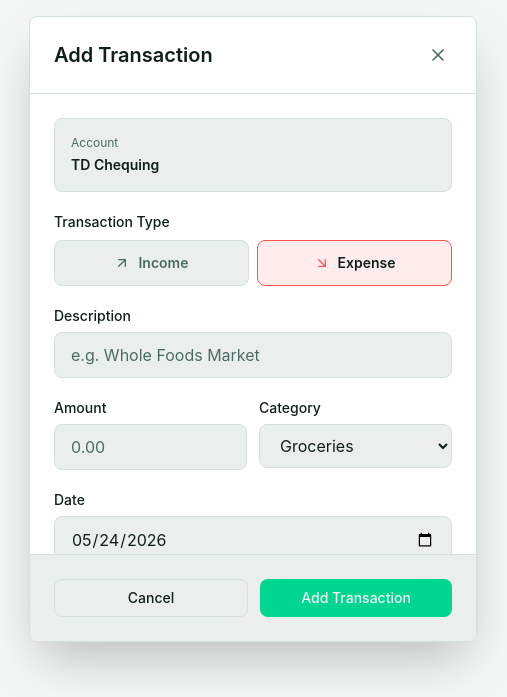
Test: AddTransactionModal — validation › shows error when description is empty
This screenshot has width=507, height=697.
# Fill amount to trigger validation
Type "50" into the number field with placeholder "0.00". click: (150, 447)
box: [54,424,247,470]
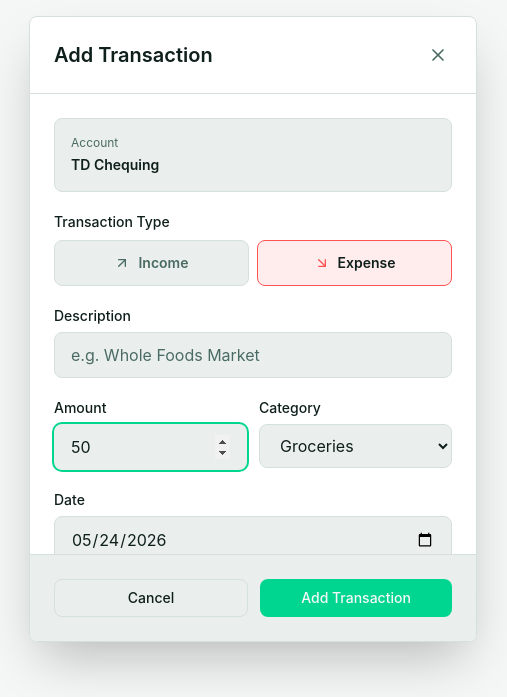
Click the button "Add Transaction". click: (356, 598)
box: [260,579,452,617]
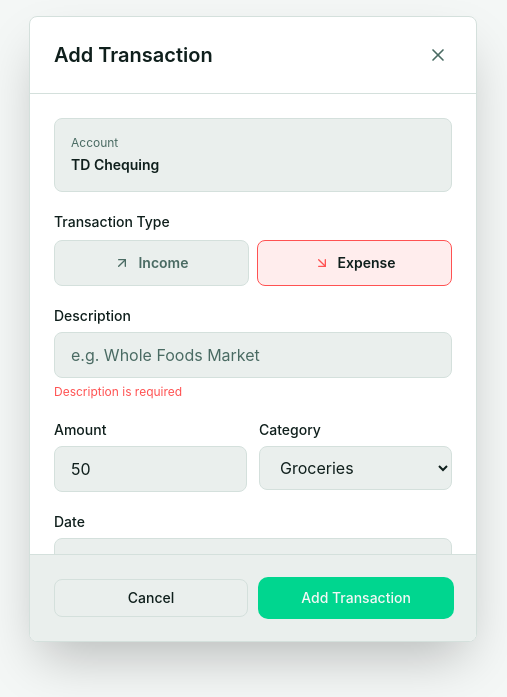
Check: the text "Description is required" is shown, box [54,384,182,399]
